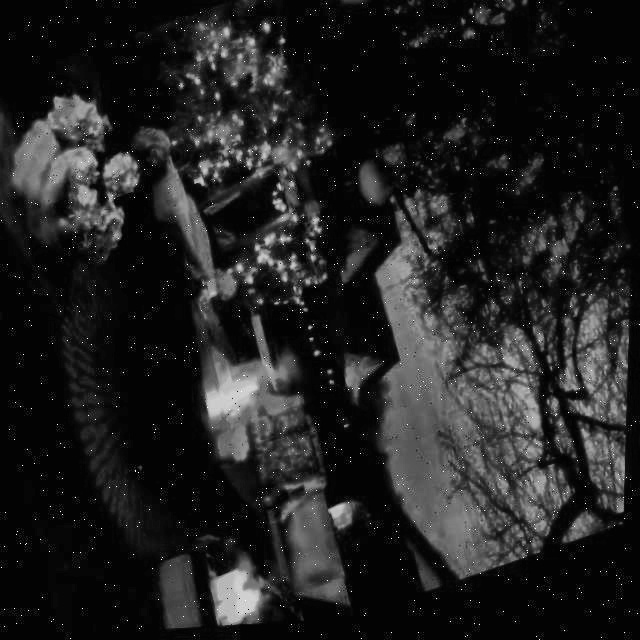Fire: (199, 356, 280, 440)
